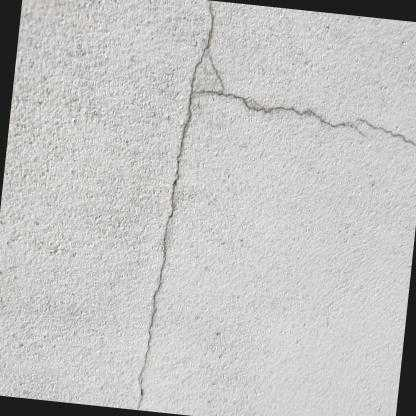crack: (191, 89, 416, 145), (170, 0, 212, 202)
